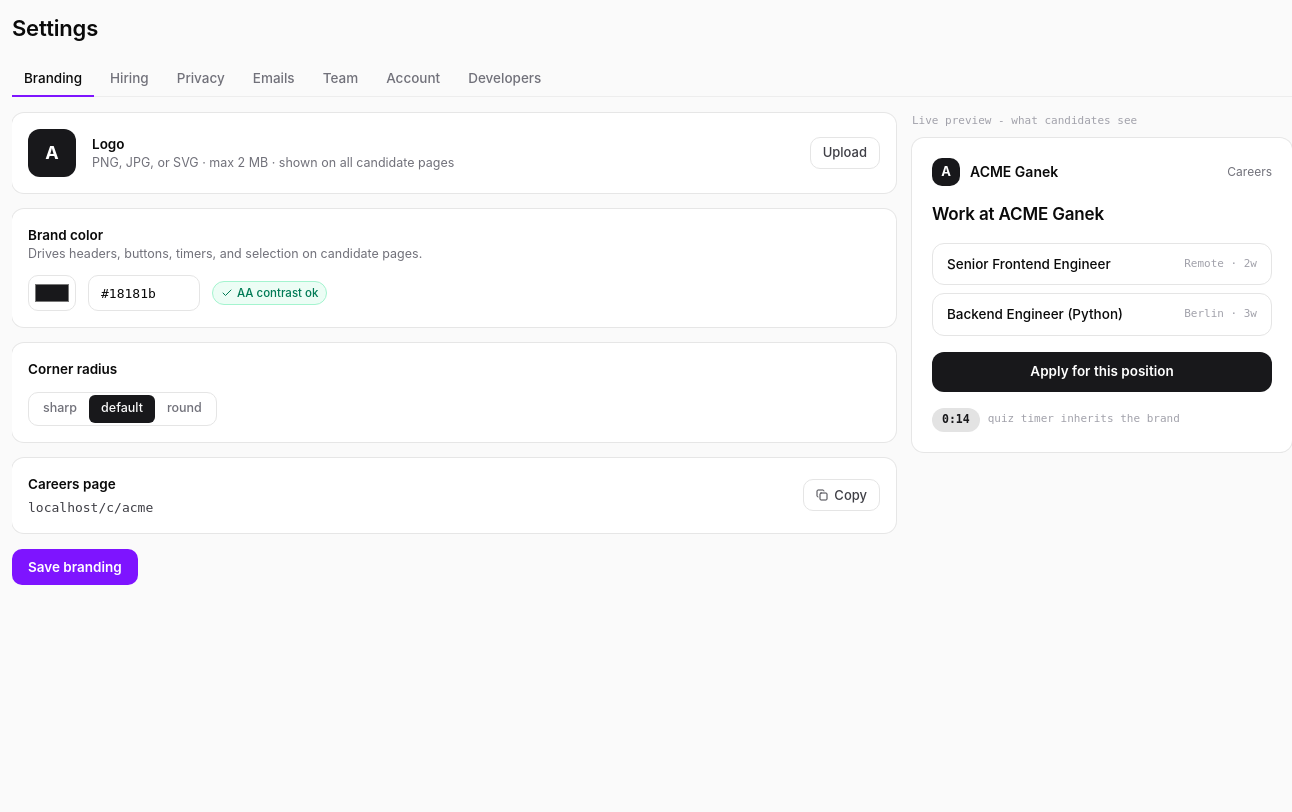
Test: BrandingPage › saves color and radius, sending null for defaults
The width and height of the screenshot is (1292, 812).
Replace the text in the field named "Brand color hex" with "#7E14FF". click: [144, 293]
box: [88,275,200,311]
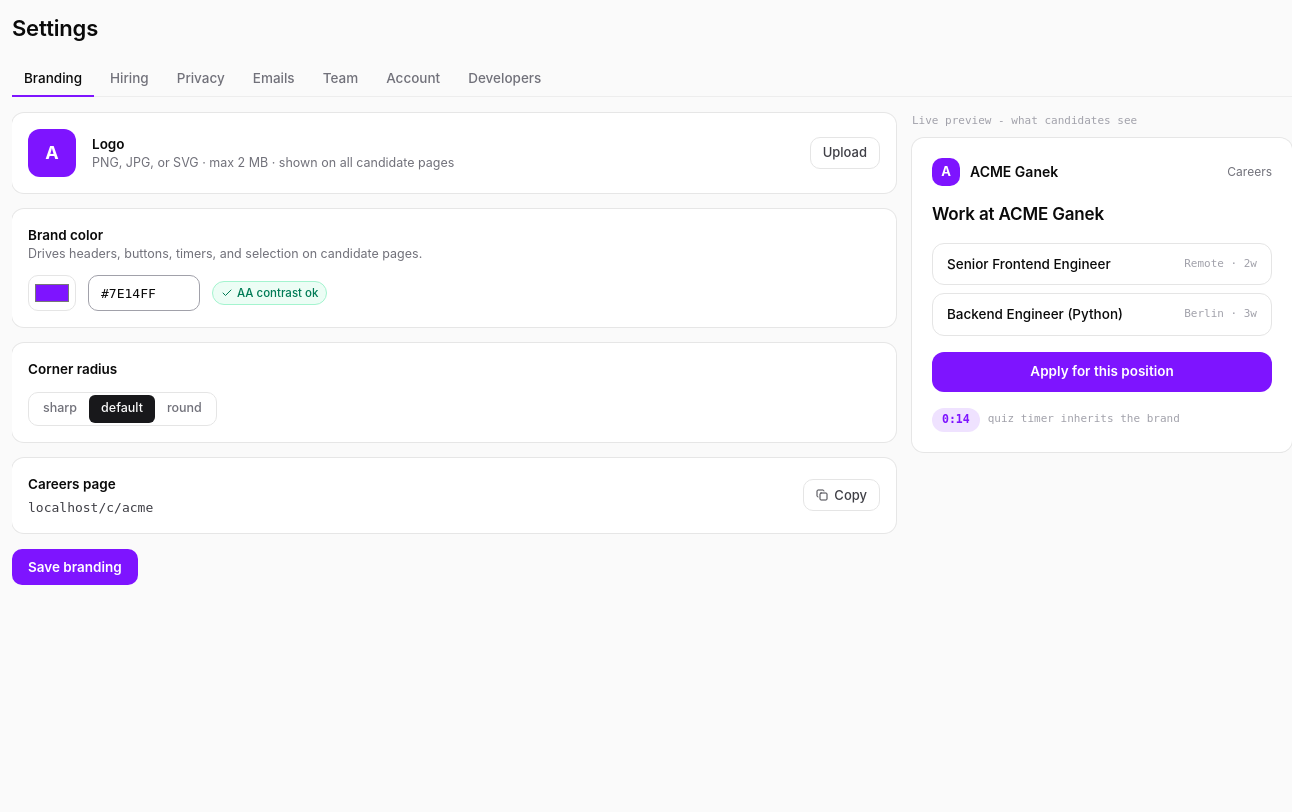
Click the radio button labelled "round". click: [184, 408]
box: [155,394,214,422]
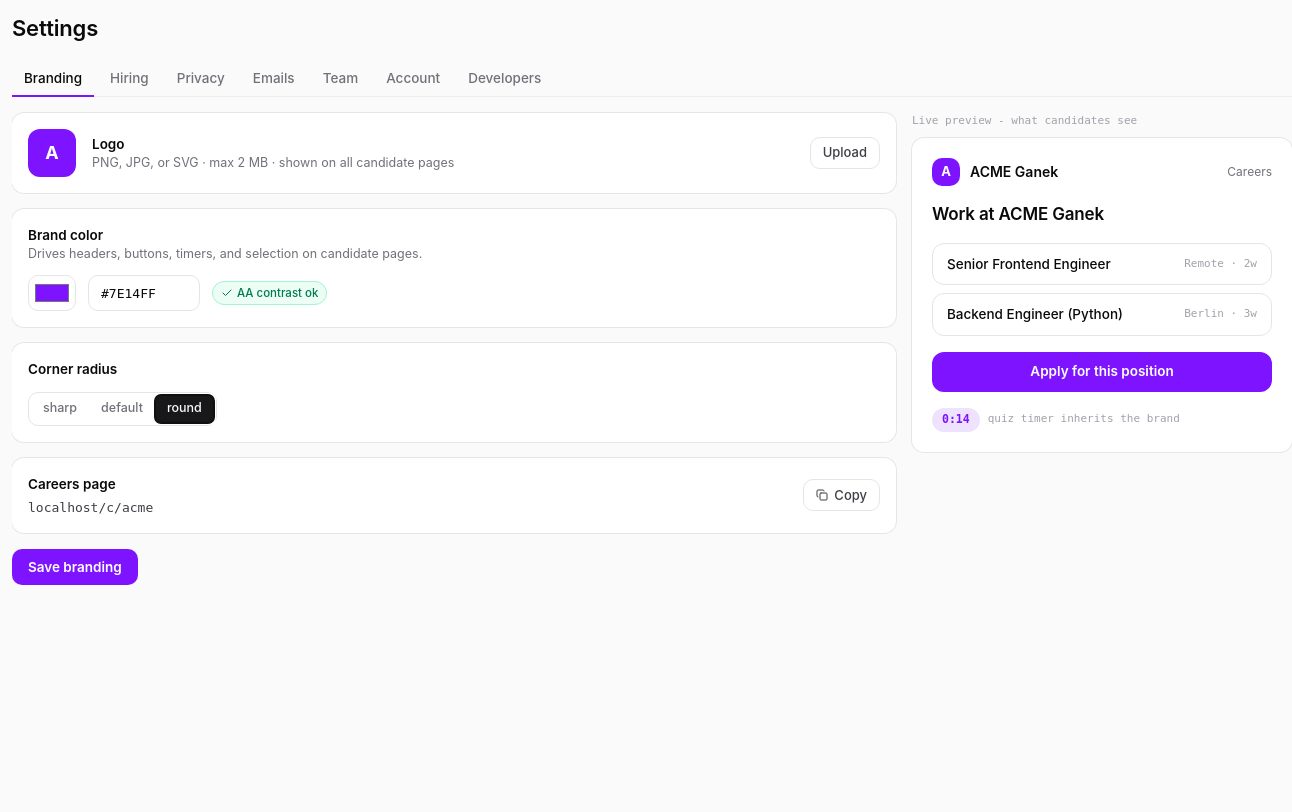
Click the button "Save branding". click: [75, 567]
box: [12,549,138,585]
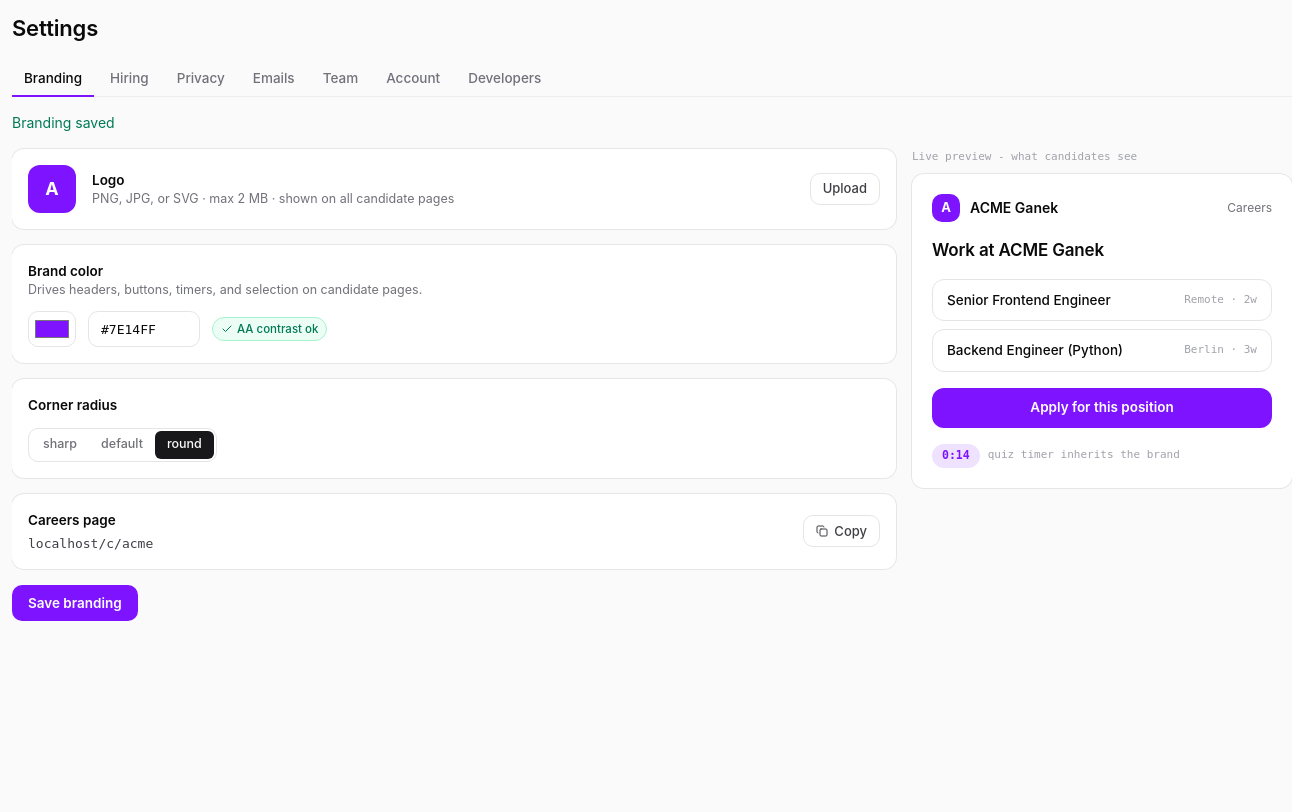
Expected: the message reads "Branding saved", [12,114,115,131]
